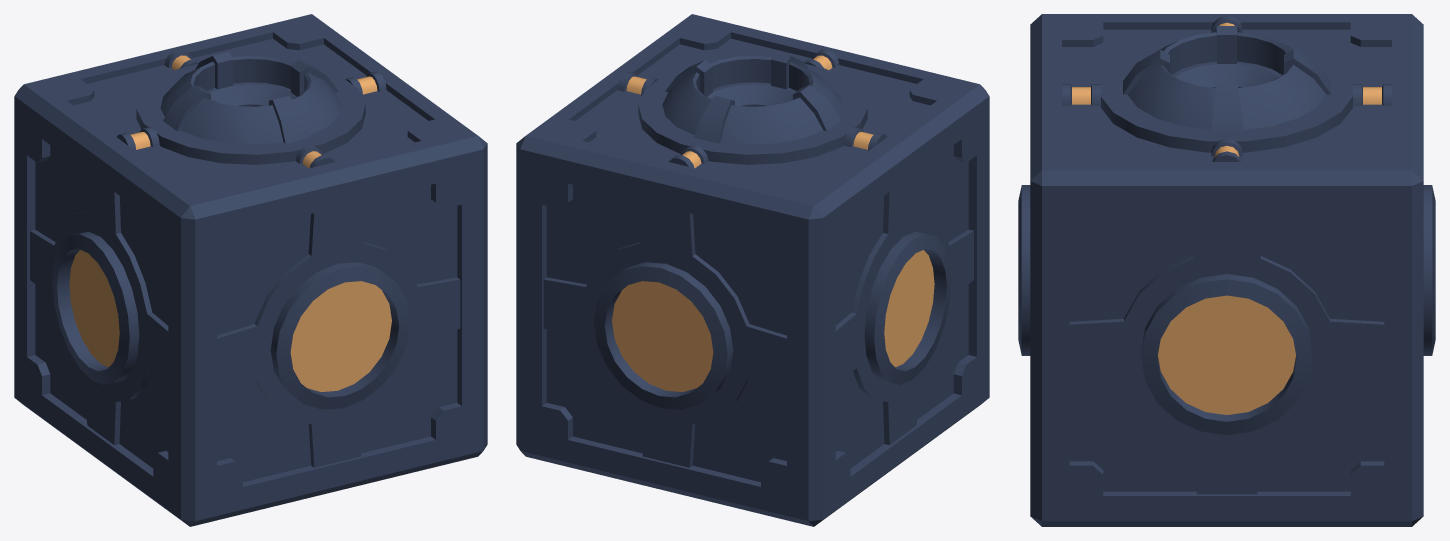
Rendered from receptacleBlock_Model.fbx.
3 renders of one model, left to right at view 1: azimuth 30°, elevation 25°; view 2: azimuth 150°, elevation 25°; view 3: azimuth 270°, elevation 25°, orthographic. The views are drawn at different scales.
Parts seen in each view (by area): view 1: receptacleBlock; view 2: receptacleBlock; view 3: receptacleBlock.
Part boxes in pixels (box(x1,y1,x2,y2)): receptacleBlock: box(14, 14, 487, 526); receptacleBlock: box(516, 14, 989, 526); receptacleBlock: box(1018, 14, 1435, 526).
Bounding box in the file's own units: 2.65 × 2.77 × 2.65.
